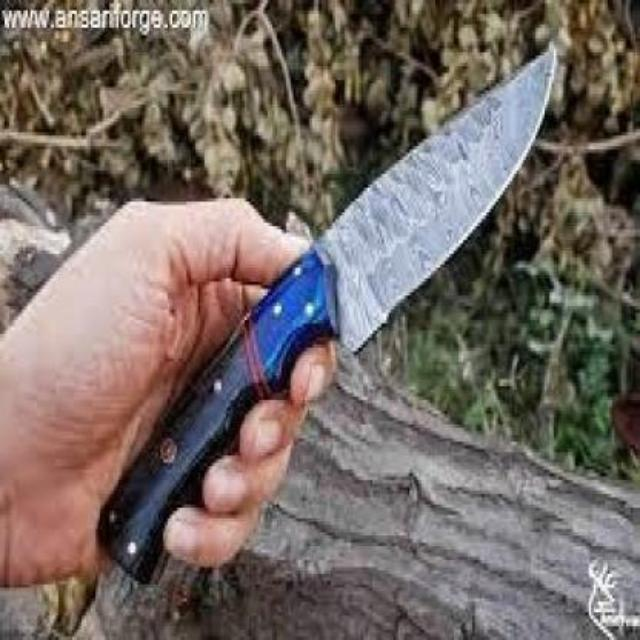Knife: (98, 52, 558, 586)
